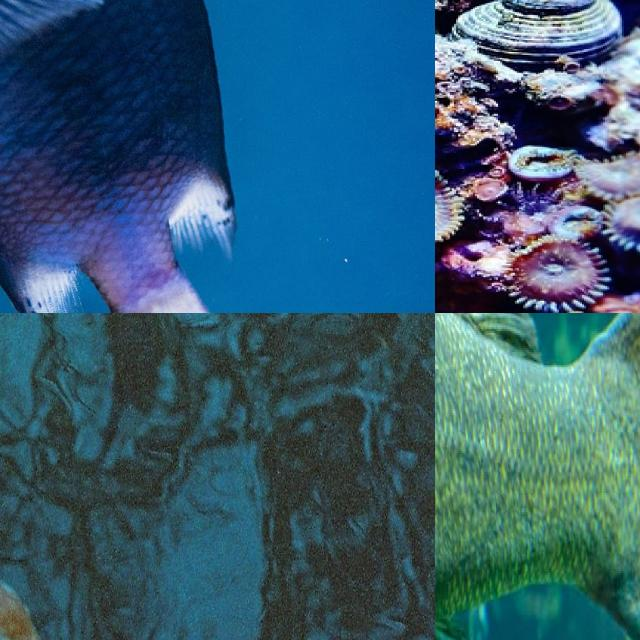fish: (0, 313, 435, 640), (0, 0, 435, 313)
